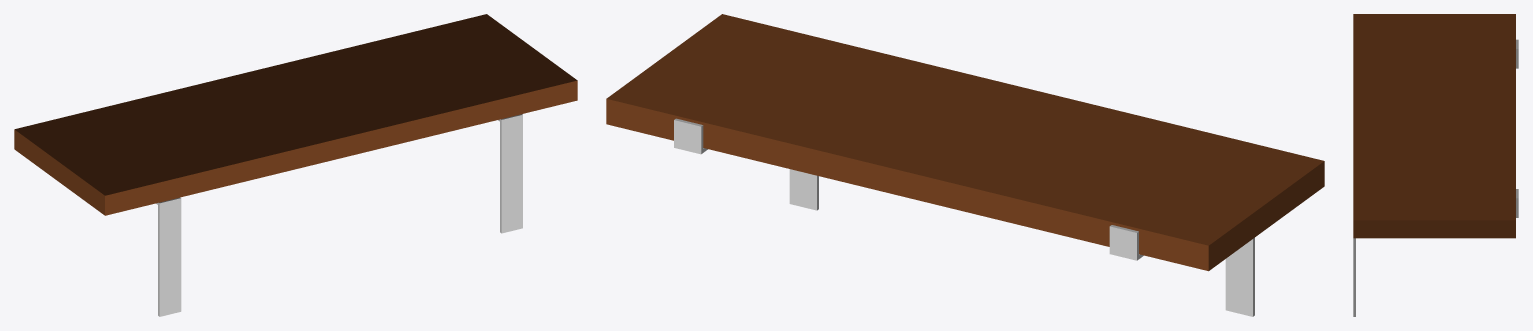
The model's file is Storage Rack 3.fbx.
The picture shows the model from 3 angles, left to right: view 1: azimuth 30°, elevation 25°; view 2: azimuth 150°, elevation 25°; view 3: azimuth 270°, elevation 25°; orthographic projection. The views are drawn at different scales.
Parts seen in each view (by area): view 1: Node 0; view 2: Node 0; view 3: Node 0.
Part boxes in pixels (x1,y1,x2,y2): Node 0: (14, 14, 577, 316); Node 0: (606, 14, 1324, 316); Node 0: (1353, 14, 1518, 316).
Bounding box in the file's own units: 0.2535 × 0.2033 × 0.7476.
